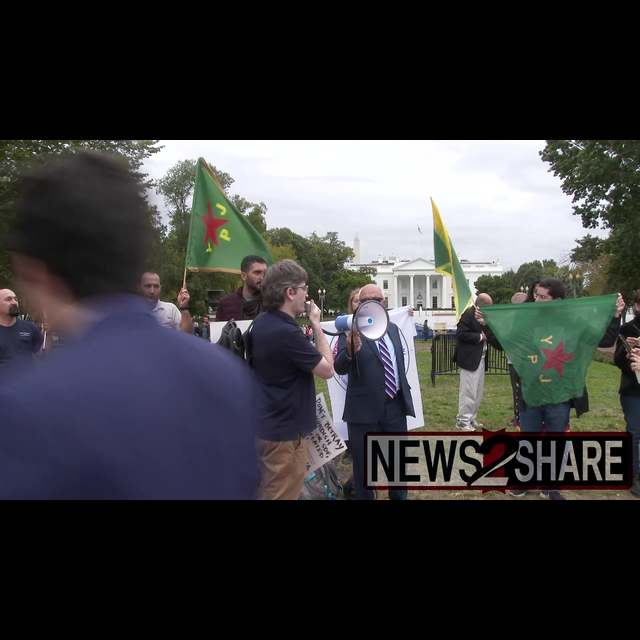YPJ: (197, 189, 234, 261)
